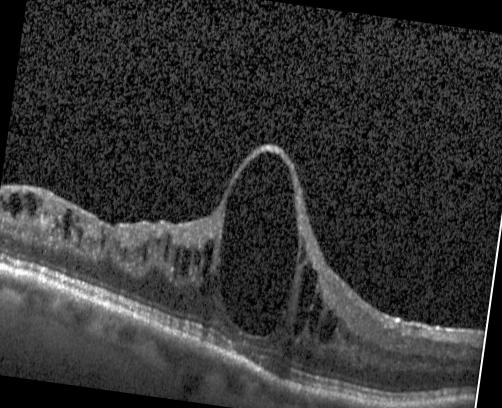intraretinal_cyst: (218, 151, 298, 336), (292, 261, 317, 337), (319, 309, 337, 344), (201, 238, 215, 281), (308, 292, 322, 333), (1, 192, 22, 218), (199, 273, 219, 295), (23, 192, 42, 215), (179, 249, 191, 275), (62, 208, 72, 239), (172, 248, 180, 278), (298, 236, 306, 263), (163, 234, 170, 261), (192, 250, 201, 271), (51, 217, 61, 231), (76, 227, 83, 246), (100, 233, 105, 249), (143, 247, 147, 262), (75, 215, 79, 223), (122, 247, 126, 255), (156, 239, 161, 245), (345, 332, 349, 339), (43, 210, 47, 216), (0, 193, 2, 200), (101, 229, 103, 233)
